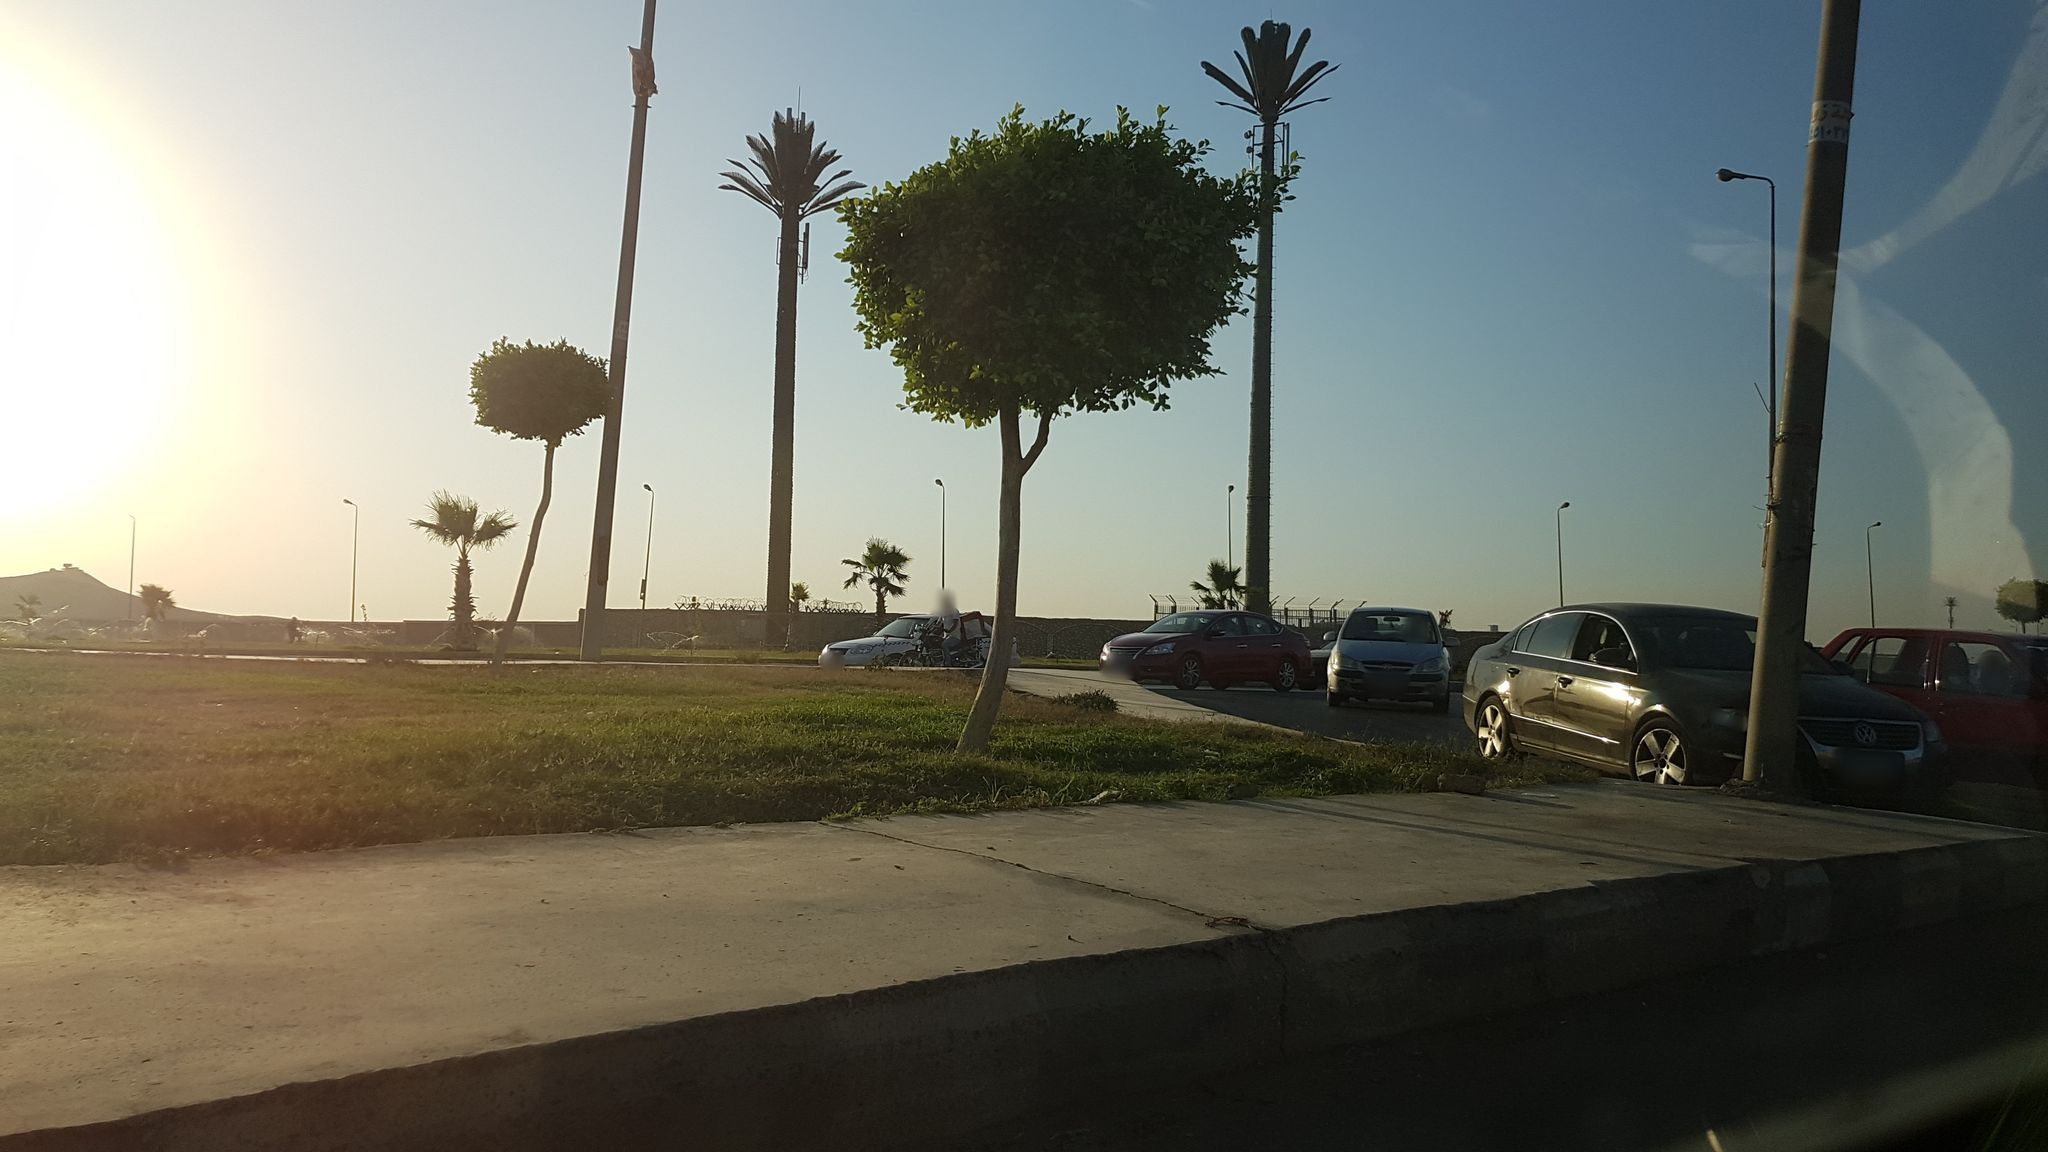car: (1463, 601, 1952, 800), (1834, 622, 2047, 764), (1099, 609, 1312, 693), (1321, 606, 1460, 710), (819, 612, 1023, 670)
motorcycle: (897, 625, 980, 665)
